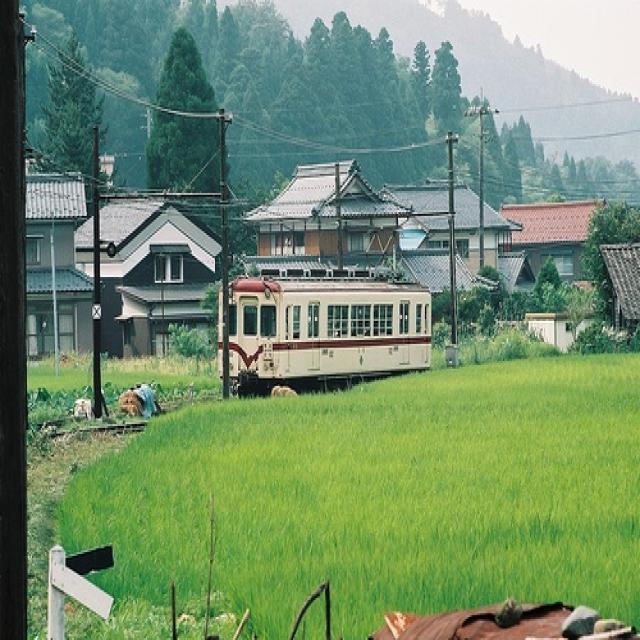train: (217, 260, 436, 399)
